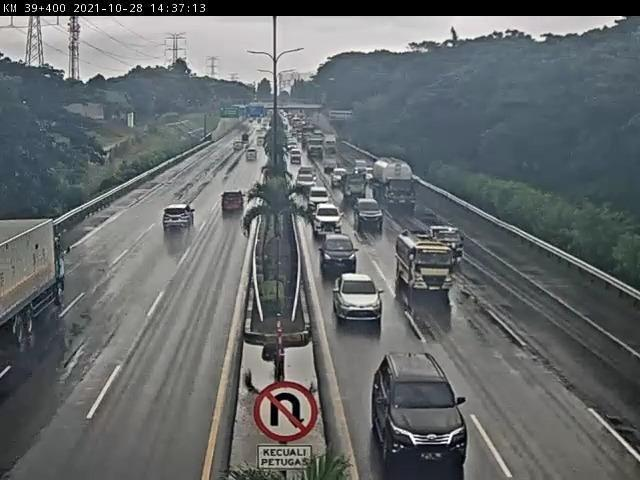car: (371, 354, 469, 473), (333, 271, 383, 325), (319, 229, 356, 269), (433, 224, 467, 259), (352, 200, 387, 230), (162, 203, 197, 232), (312, 200, 340, 230), (223, 190, 248, 212), (307, 182, 327, 206), (295, 171, 316, 191), (331, 168, 345, 187), (246, 150, 260, 165), (290, 148, 302, 163), (232, 142, 243, 153)
truck: (1, 218, 69, 343), (397, 232, 454, 296), (370, 157, 416, 209), (340, 172, 367, 199)
